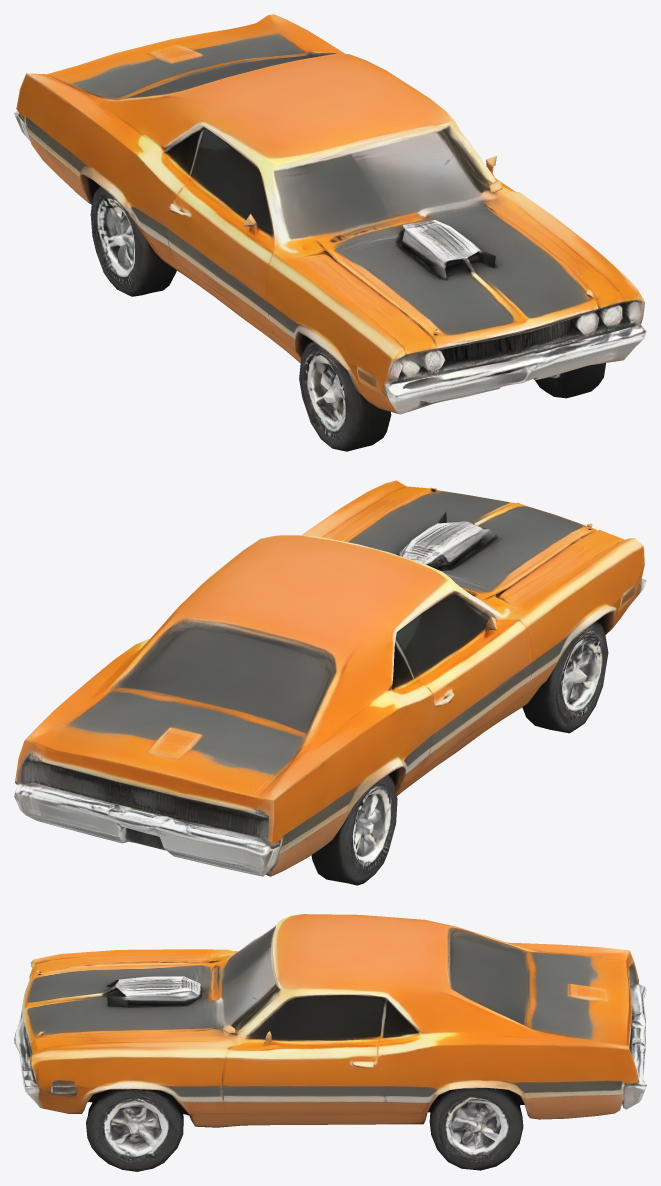
The picture shows the model from 3 angles, top to bottom: view 1: azimuth 30°, elevation 25°; view 2: azimuth 150°, elevation 25°; view 3: azimuth 270°, elevation 25°; orthographic projection. The views are drawn at different scales.
Visible parts, largest first — view 1: model; view 2: model; view 3: model.
Part boxes in pixels (bbox=[...]): model: bbox=[14, 14, 646, 451]; model: bbox=[14, 480, 646, 885]; model: bbox=[14, 914, 646, 1171].
Bounding box in the file's own units: 0.8092 × 0.6003 × 1.9.
Materials: 1 (1 with a texture image).
